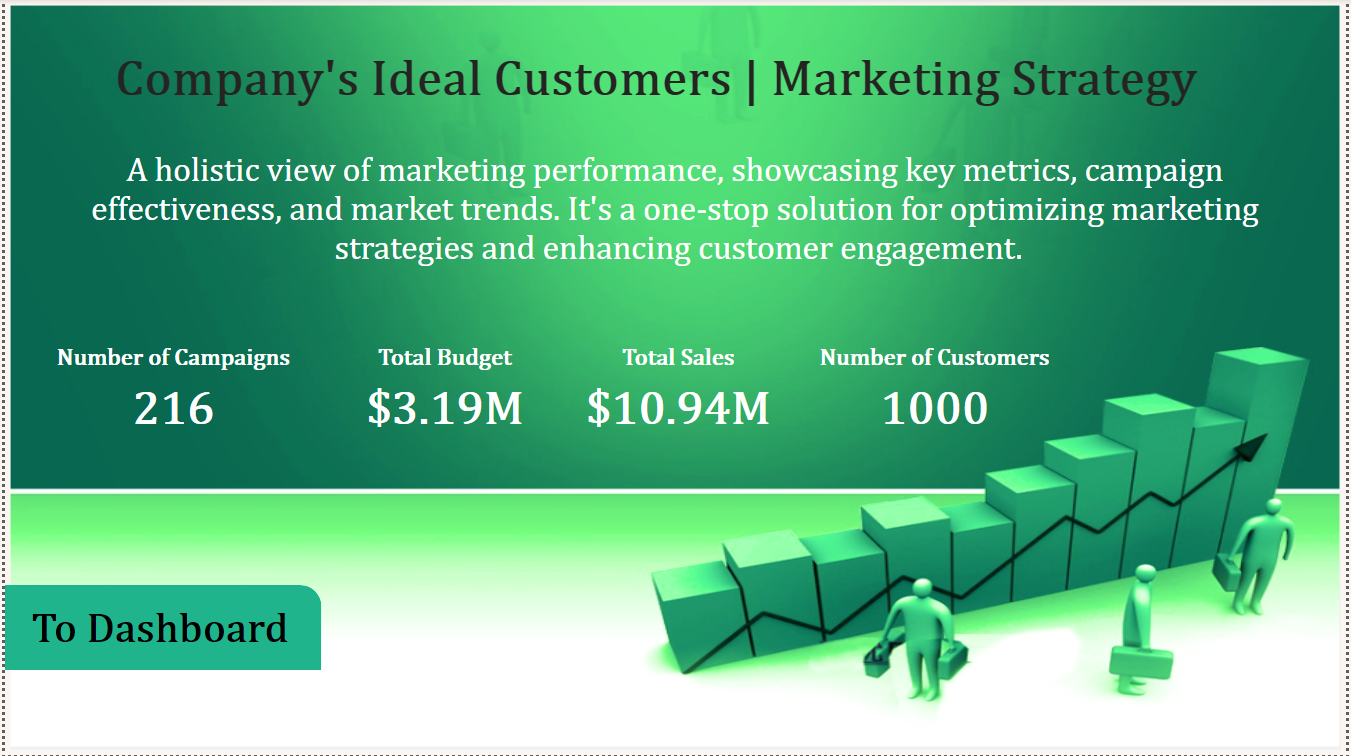

Layout of this report page (visuals, bound fields, positions):
{"tool":"powerbi","page":{"name":"Home","canvas":[1280,720],"ordinal":0},"visuals":[{"type":"image","box":[0,0,1279.5,720],"z":0},{"type":"textbox","box":[44.5,44.5,1153.9,95.4],"z":1000},{"type":"card","title":"Total Sales","fields":{"Values":["DAX_Measures.Total Sales"]},"box":[547.3,329,190.7,90.6],"z":2000},{"type":"card","title":"Number of Campaigns","fields":{"Values":["Total Of Target Of Campaigns.Number Of Campaigns"]},"box":[30.2,329,260.7,90.6],"z":3000},{"type":"card","title":"Number of Customers","fields":{"Values":["DAX_Measures.Number Of Customers"]},"box":[764.5,329,244.8,90.6],"z":4000},{"type":"card","title":"Total Budget","fields":{"Values":["DAX_Measures.Total Budget"]},"box":[317.4,329,203.4,90.6],"z":5000},{"type":"shape","box":[0,557.9,302,81.1],"z":6000},{"type":"textbox","box":[38.1,139.9,1207.9,146.2],"z":7000}]}

Visuals, with their boxes in screenshot pixels (x1, y1, x2, y2), scaled from the page's 1280x720 canvas onto the 1351x756 screenshot:
image: locate(0, 0, 1350, 755)
textbox: locate(47, 47, 1265, 147)
"Total Sales" card: locate(578, 345, 779, 441)
"Number of Campaigns" card: locate(32, 345, 307, 441)
"Number of Customers" card: locate(807, 345, 1065, 441)
"Total Budget" card: locate(335, 345, 550, 441)
shape: locate(0, 586, 319, 671)
textbox: locate(40, 147, 1315, 300)
